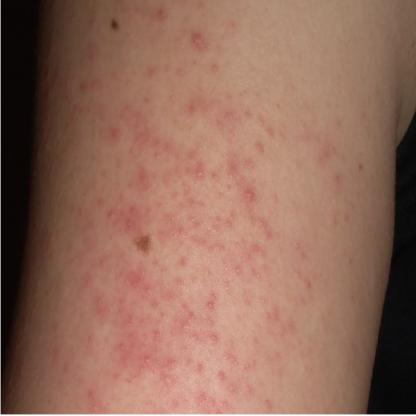Chicken Skin: (67, 2, 324, 412)
Healthy skin: (231, 5, 413, 410)
